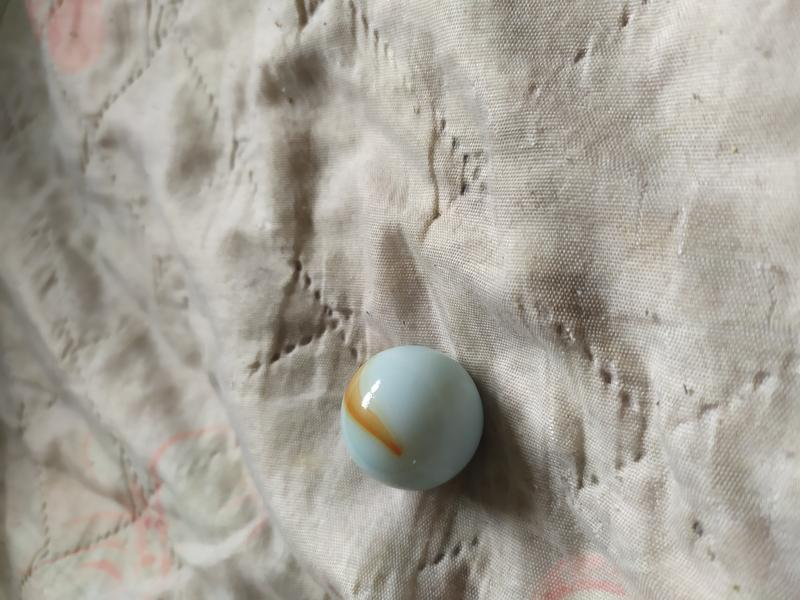Warning: (336, 339, 488, 496)
